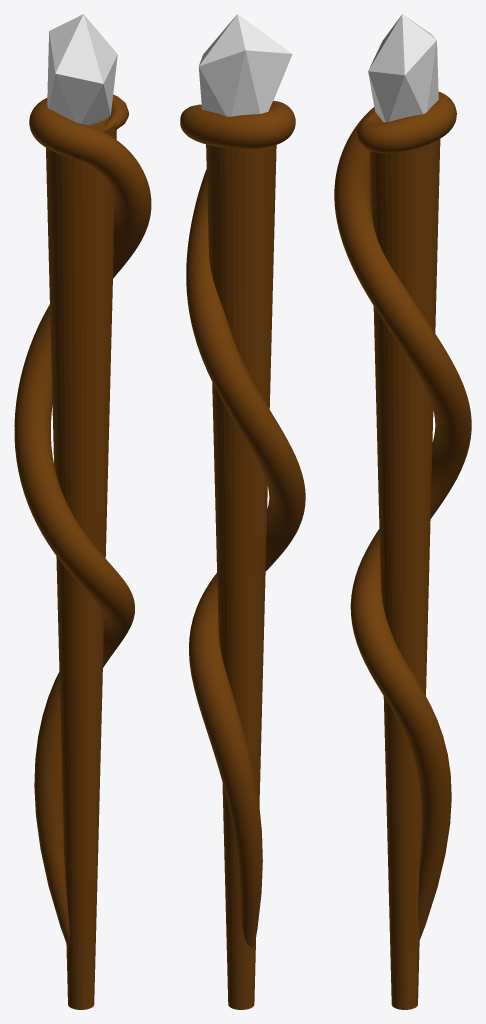
Rendered from staff.fbx.
The picture shows the model from 3 angles, left to right: view 1: azimuth 90°, elevation 25°; view 2: azimuth 210°, elevation 25°; view 3: azimuth 270°, elevation 25°; orthographic projection.
Visible parts, largest first — view 1: Cylinder, Icosphere; view 2: Cylinder, Icosphere; view 3: Cylinder, Icosphere.
Boxes of the visible parts, bbox=[...] form: Cylinder: bbox=[14, 94, 151, 1009]; Icosphere: bbox=[47, 14, 117, 125]; Cylinder: bbox=[180, 101, 305, 1009]; Icosphere: bbox=[198, 14, 292, 116]; Cylinder: bbox=[334, 91, 471, 1009]; Icosphere: bbox=[368, 14, 438, 122].
Size of the model in its own units: 44.29 by 417 by 52.37.
